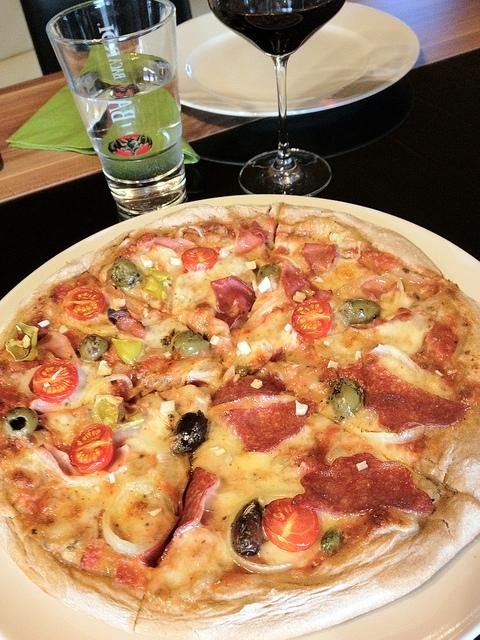onion: (101, 482, 172, 554), (369, 344, 455, 401), (33, 443, 113, 488), (226, 528, 292, 574), (247, 289, 288, 322), (360, 426, 426, 444), (174, 271, 206, 301), (100, 374, 134, 392), (249, 338, 276, 356), (177, 226, 205, 243), (218, 244, 237, 259), (97, 360, 112, 376), (258, 276, 271, 294), (237, 341, 252, 355), (160, 400, 175, 413), (296, 400, 308, 416), (140, 255, 153, 268), (210, 446, 226, 456), (293, 291, 306, 303), (210, 334, 221, 346), (356, 461, 368, 472), (250, 379, 263, 389), (245, 260, 256, 271), (327, 360, 339, 370), (170, 257, 183, 266), (38, 320, 50, 328), (150, 508, 162, 516), (59, 325, 68, 334), (108, 472, 116, 482), (354, 350, 362, 360), (324, 338, 333, 346), (314, 277, 324, 284), (233, 374, 241, 382), (284, 324, 291, 332), (291, 331, 298, 338)
tomato: (264, 497, 320, 552), (69, 423, 114, 474), (33, 361, 78, 404), (291, 299, 332, 339), (66, 288, 106, 320), (182, 247, 218, 271)
